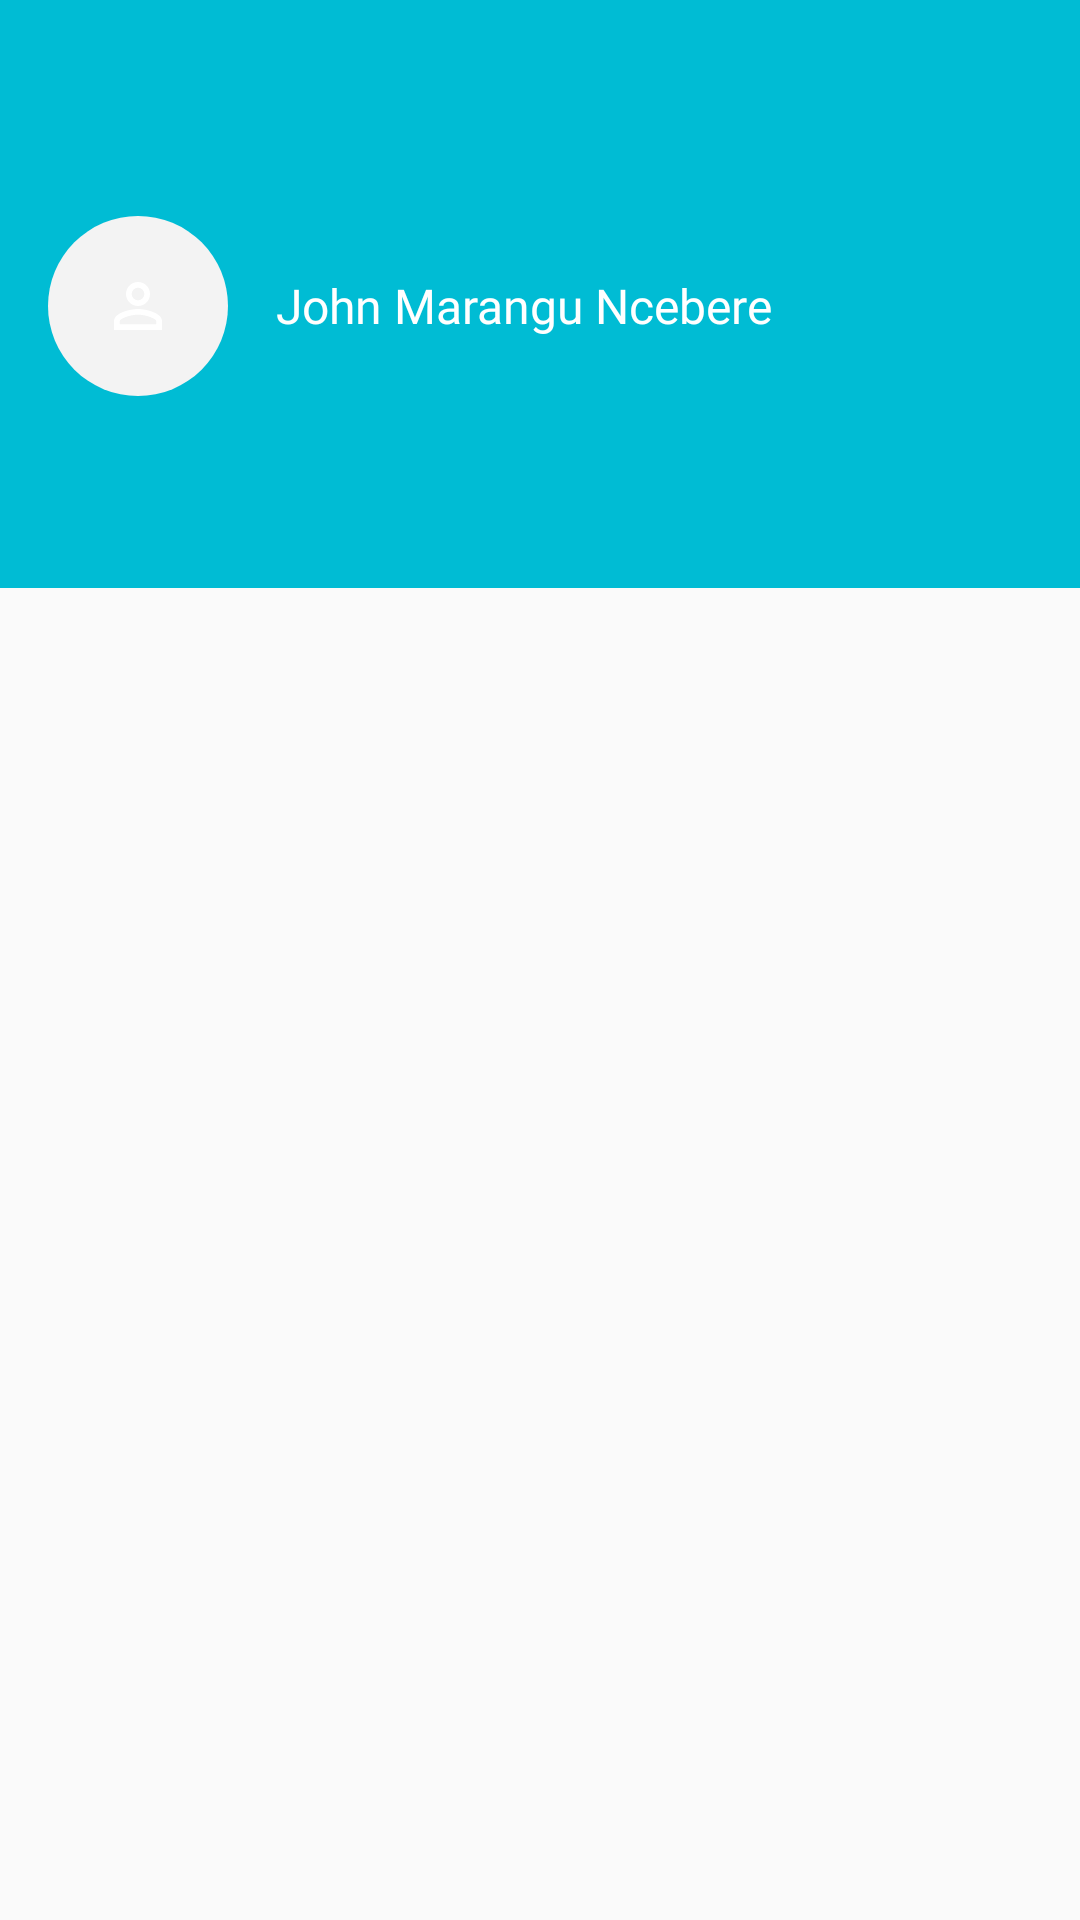

Named icons in this screenshot (1080px x 1920px) and their bounding boxes, (x1, y1, x2, y2):
person: (48, 216, 228, 396)
